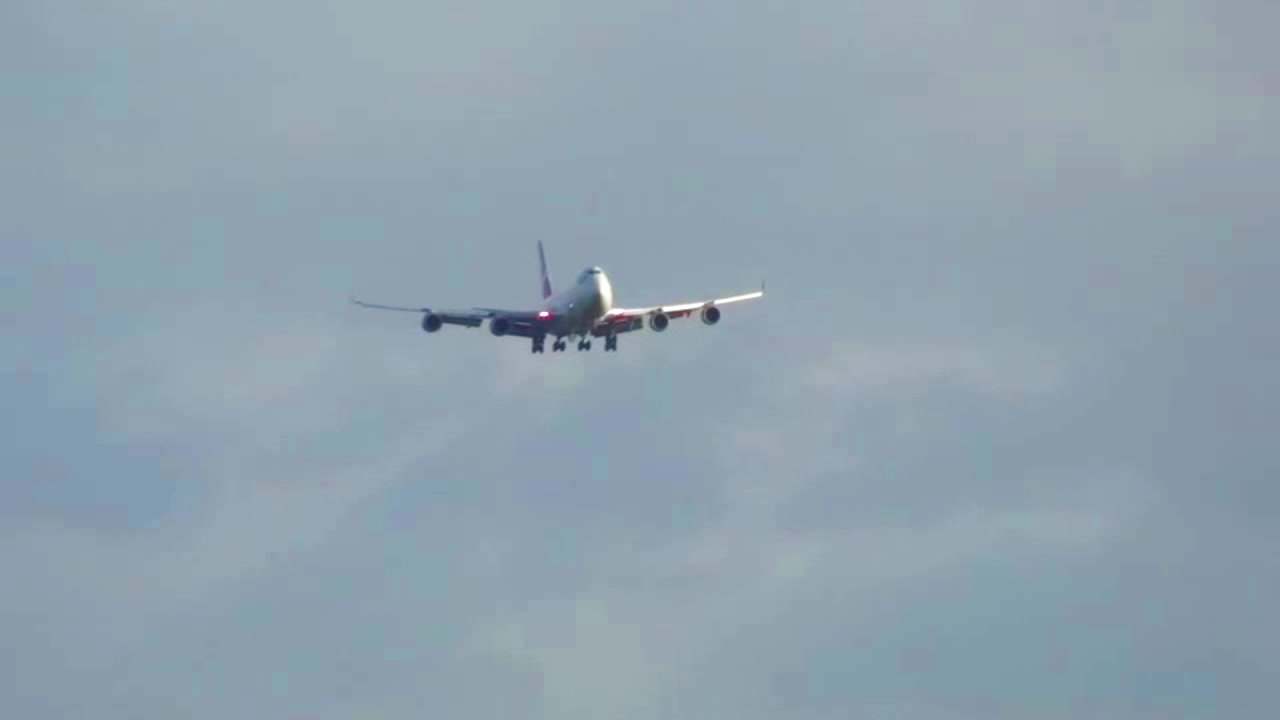aeroplane: (350, 240, 767, 353)
